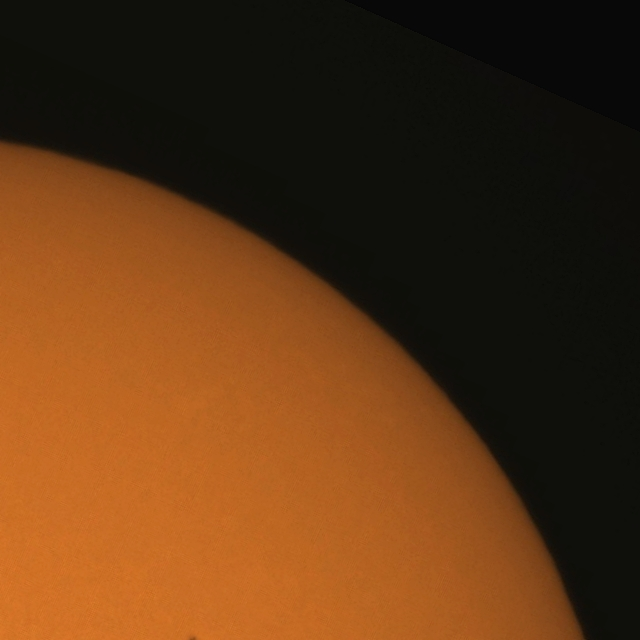sunspot: (187, 634, 199, 640)
